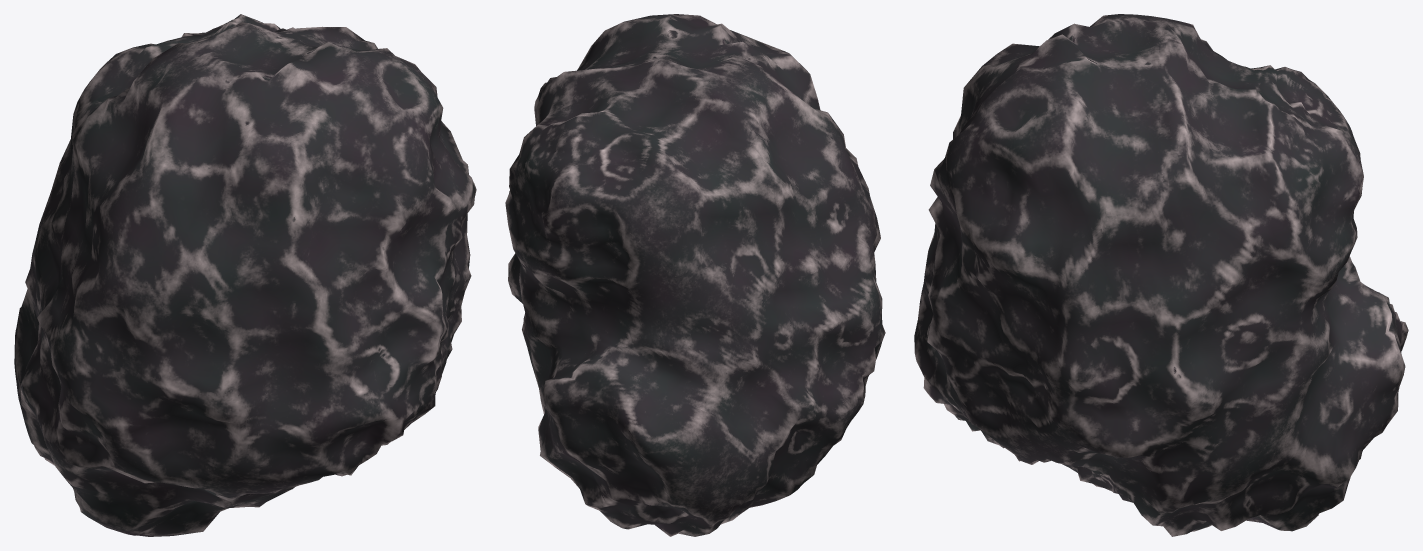
3 views of the same model, side by side, from view 1: azimuth 30°, elevation 25°; view 2: azimuth 150°, elevation 25°; view 3: azimuth 270°, elevation 25° (orthographic). The views are drawn at different scales.
Visible parts, largest first — view 1: 7.001; view 2: 7.001; view 3: 7.001.
Boxes of the visible parts, box(x1,y1,x2,y2) form: 7.001: box(14, 14, 476, 536); 7.001: box(505, 14, 885, 536); 7.001: box(914, 14, 1408, 536).
Size of the model in its own units: 13.64 by 16.44 by 14.7.
1 material, 1 textured.
